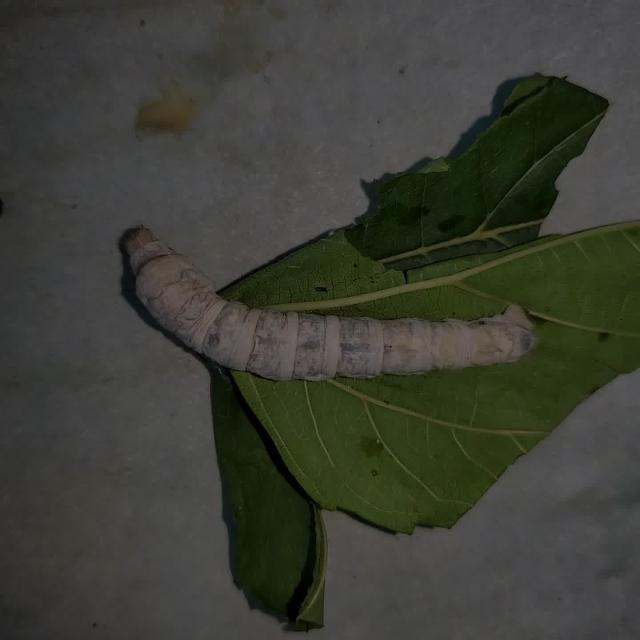Grasserie: (110, 204, 564, 390)
